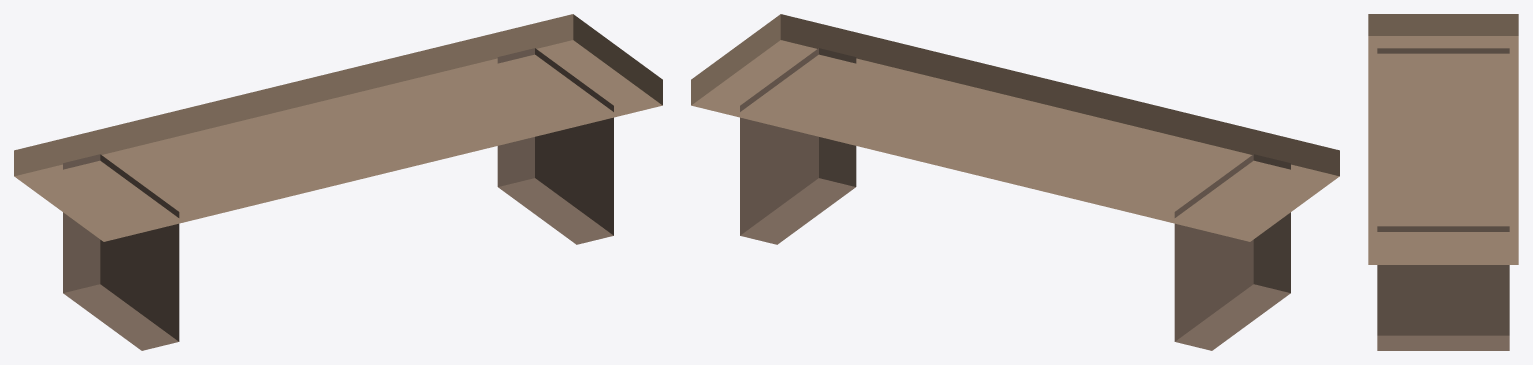
File: bench.glb
3 views of the same model, side by side, from view 1: azimuth 30°, elevation 25°; view 2: azimuth 150°, elevation 25°; view 3: azimuth 270°, elevation 25° (orthographic). The views are drawn at different scales.
Parts seen in each view (by area): view 1: seat, legs; view 2: seat, legs; view 3: seat, legs.
Part boxes in pixels (x1,y1,x2,y2): seat: [14, 14, 662, 241]; legs: [63, 48, 613, 350]; seat: [691, 14, 1339, 241]; legs: [740, 48, 1290, 350]; seat: [1368, 14, 1518, 264]; legs: [1377, 48, 1509, 350].
Bounding box in the file's own units: 1.8 × 0.46 × 0.5.
